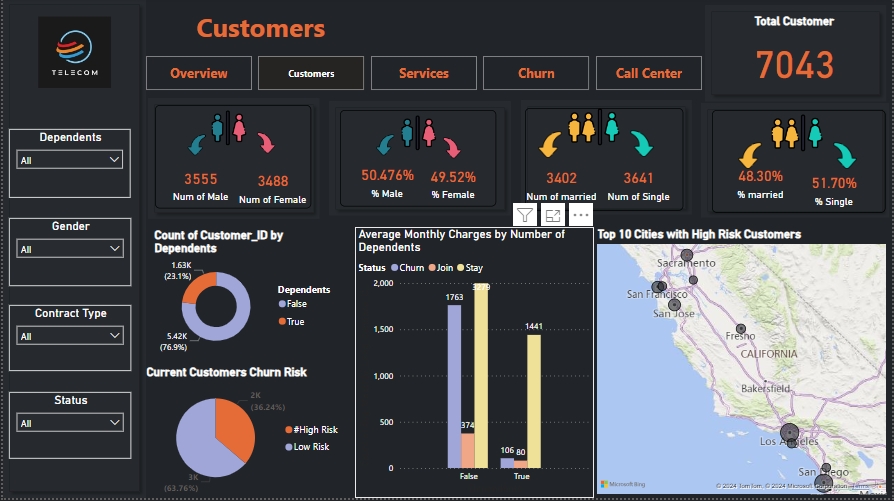

The page's visual inventory and layout, read from the dashboard file:
{"tool":"powerbi","page":{"name":"Customers ","canvas":[1280,720],"ordinal":1},"visuals":[{"type":"shape","box":[0,0,205.6,719.7],"z":0},{"type":"slicer","title":"Dependents","fields":{"Values":["Dim_Customers.Dependents"]},"box":[9.2,188.5,175.4,99.5],"z":1000},{"type":"slicer","title":"Gender ","fields":{"Values":["Dim_Customers.Gender"]},"box":[8.3,316.6,176.2,97.7],"z":2000},{"type":"slicer","title":"Contract Type","fields":{"Values":["Dim_Contracts.Contract_Type"]},"box":[8.3,441.8,176.2,95],"z":3000},{"type":"image","box":[31.4,22.3,142.7,112.6],"z":4000},{"type":"pageNavigator","box":[205.8,83.2,800.7,49.3],"z":5000},{"type":"shape","box":[1005.8,150.5,271.2,165.4],"z":6000},{"type":"shape","box":[208.6,144.5,247.4,174.3],"z":7000},{"type":"shape","box":[746.5,147.5,245.9,165.4],"z":8000},{"type":"shape","box":[469.4,149,262.3,165.4],"z":9000},{"type":"textbox","box":[217.6,11.9,307,74.5],"z":10000},{"type":"shape","box":[485.8,160.9,225,138.6],"z":11000},{"type":"card","fields":{"Values":["Measure.% Male"]},"box":[506.6,233.9,92.4,59.6],"z":12000},{"type":"card","fields":{"Values":["Measure.% Female"]},"box":[602,235.4,92.4,61.1],"z":13000},{"type":"image","box":[561.8,163.9,73,59.6],"z":14000},{"type":"image","box":[618.4,195.2,58.1,40.2],"z":15000},{"type":"image","box":[521.5,192.2,58.1,40.2],"z":16000},{"type":"shape","box":[1010.3,10.4,260.8,138.6],"z":17000},{"type":"card","title":"Total Customer","fields":{"Values":["Measure.Count_Of_Customer"]},"box":[1017.7,22.4,242.9,113.2],"z":18000},{"type":"shape","box":[219,153.5,225,149],"z":19000},{"type":"image","box":[278.6,156.5,92.4,59.6],"z":20000},{"type":"card","fields":{"Values":["Measure.Num of Male"]},"box":[238.4,236.9,90.9,61.1],"z":21000},{"type":"card","fields":{"Values":["Measure.Num of Female"]},"box":[332.3,239.9,111.8,62.6],"z":22000},{"type":"image","box":[350.2,189.2,58.1,40.2],"z":23000},{"type":"image","box":[252.9,238.6,10,40],"z":24000},{"type":"image","box":[241.4,192.2,73,40.2],"z":25000},{"type":"shape","box":[751,158,228,147.5],"z":26000},{"type":"card","fields":{"Values":["Measure.Num of married"]},"box":[748,229.5,113.2,76],"z":27000},{"type":"image","box":[780.8,153.5,138.6,62.6],"z":28000},{"type":"card","fields":{"Values":["Measure.Num of Single"]},"box":[858.8,235.4,114.2,66.1],"z":29000},{"type":"image","box":[751,187.8,71.5,47.7],"z":30000},{"type":"image","box":[883.6,186.3,71.5,47.7],"z":31000},{"type":"shape","box":[1020.7,160.9,250.3,147.5],"z":32000},{"type":"card","fields":{"Values":["Measure.% married"]},"box":[1034.1,228,113.2,74.5],"z":33000},{"type":"image","box":[1090.8,162.4,104.3,62.6],"z":34000},{"type":"card","fields":{"Values":["Measure.% Single"]},"box":[1138.4,241.4,114.7,65.6],"z":35000},{"type":"image","box":[1177.2,202.7,71.5,47.7],"z":36000},{"type":"image","box":[1040.1,202.7,71.5,47.7],"z":37000},{"type":"donutChart","fields":{"Category":["Dim_Customers.Dependents"],"Y":["CountNonNull(Dim_Customers.Customer_ID)"]},"box":[213.1,330.8,281.6,187.8],"z":38000},{"type":"clusteredColumnChart","title":"Average Monthly Charges by Number of Dependents","fields":{"Series":["Fact_TelecomChurn.Status"],"Category":["Dim_Customers.Dependents"],"Y":["CountNonNull(Fact_TelecomChurn.Avg_Monthly_Long_Distance_Charges)"]},"box":[506.6,329.3,344.2,390.4],"z":39000},{"type":"slicer","title":"Status","fields":{"Values":["Fact_TelecomChurn.Status"]},"box":[8.3,567.1,176.2,96.3],"z":40000},{"type":"pieChart","title":"Current Customers Churn Risk","fields":{"Y":["Measure.#High Risk","Measure.Low Risk"]},"box":[201.2,529,295,190.7],"z":41000},{"type":"map","title":"Top 10 Cities with High Risk Customers","fields":{"Category":["Dim_Locations.City"],"Size":["CountNonNull(Dim_Customers.Customer_Key)"]},"box":[850.8,329.3,426.2,390.4],"z":42000}]}

Visuals, with their boxes in screenshot pixels (x1, y1, x2, y2), scaled from the page's 1280x720 canvas onto the 894x501 screenshot:
shape: l=0, t=0, r=144, b=500
"Dependents" slicer: l=6, t=131, r=129, b=200
"Gender " slicer: l=6, t=220, r=129, b=288
"Contract Type" slicer: l=6, t=307, r=129, b=374
image: l=22, t=16, r=122, b=94
pageNavigator: l=144, t=58, r=703, b=92
shape: l=702, t=105, r=892, b=220
shape: l=146, t=101, r=318, b=222
shape: l=521, t=103, r=693, b=218
shape: l=328, t=104, r=511, b=219
textbox: l=152, t=8, r=366, b=60
shape: l=339, t=112, r=496, b=208
card - Measure.% Male: l=354, t=163, r=418, b=204
card - Measure.% Female: l=420, t=164, r=485, b=206
image: l=392, t=114, r=443, b=156
image: l=432, t=136, r=472, b=164
image: l=364, t=134, r=405, b=162
shape: l=706, t=7, r=888, b=104
"Total Customer" card: l=711, t=16, r=880, b=94
shape: l=153, t=107, r=310, b=210
image: l=195, t=109, r=259, b=150
card - Measure.Num of Male: l=167, t=165, r=230, b=207
card - Measure.Num of Female: l=232, t=167, r=310, b=210
image: l=245, t=132, r=285, b=160
image: l=177, t=166, r=184, b=194
image: l=169, t=134, r=220, b=162
shape: l=525, t=110, r=684, b=213
card - Measure.Num of married: l=522, t=160, r=601, b=213
image: l=545, t=107, r=642, b=150
card - Measure.Num of Single: l=600, t=164, r=680, b=210
image: l=525, t=131, r=574, b=164
image: l=617, t=130, r=667, b=163
shape: l=713, t=112, r=888, b=215
card - Measure.% married: l=722, t=159, r=801, b=210
image: l=762, t=113, r=835, b=157
card - Measure.% Single: l=795, t=168, r=875, b=214
image: l=822, t=141, r=872, b=174
image: l=726, t=141, r=776, b=174
donutChart - Dim_Customers.Dependents x CountNonNull(Dim_Customers.Customer_ID): l=149, t=230, r=346, b=361
"Average Monthly Charges by Number of Dependents" clusteredColumnChart: l=354, t=229, r=594, b=500
"Status" slicer: l=6, t=395, r=129, b=462
"Current Customers Churn Risk" pieChart: l=141, t=368, r=347, b=500
"Top 10 Cities with High Risk Customers" map: l=594, t=229, r=892, b=500
